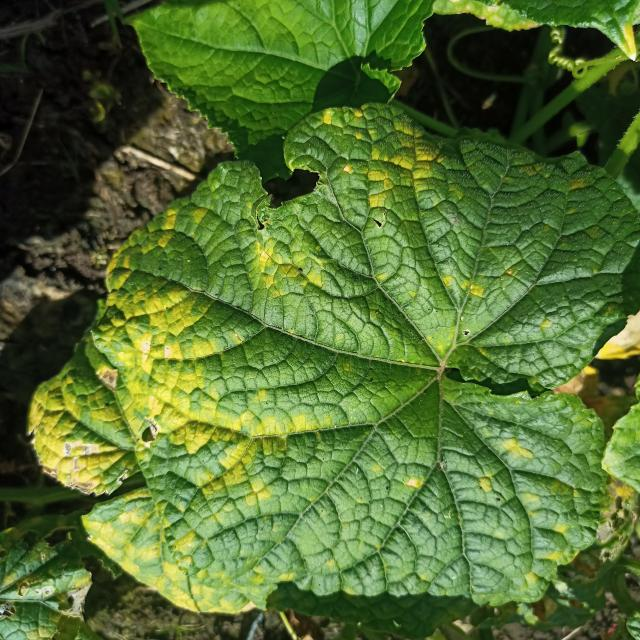disease_cucumber: (28, 200, 270, 599), (233, 114, 437, 303)
